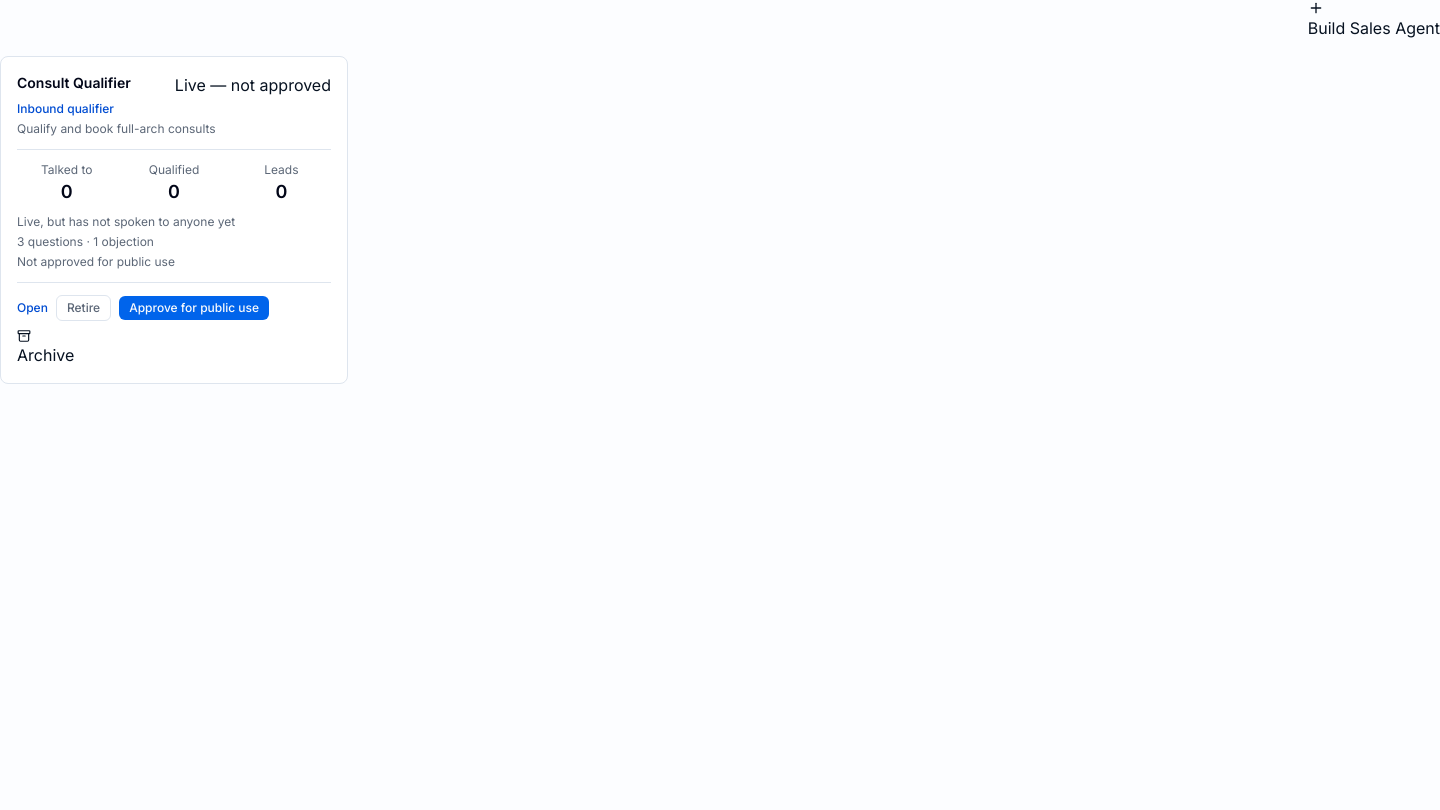
opening an agent › leads with what the agent may never say, above the script
The image size is (1440, 810).
Click the button "Open" at point(32, 308), box [17,300,48,316]
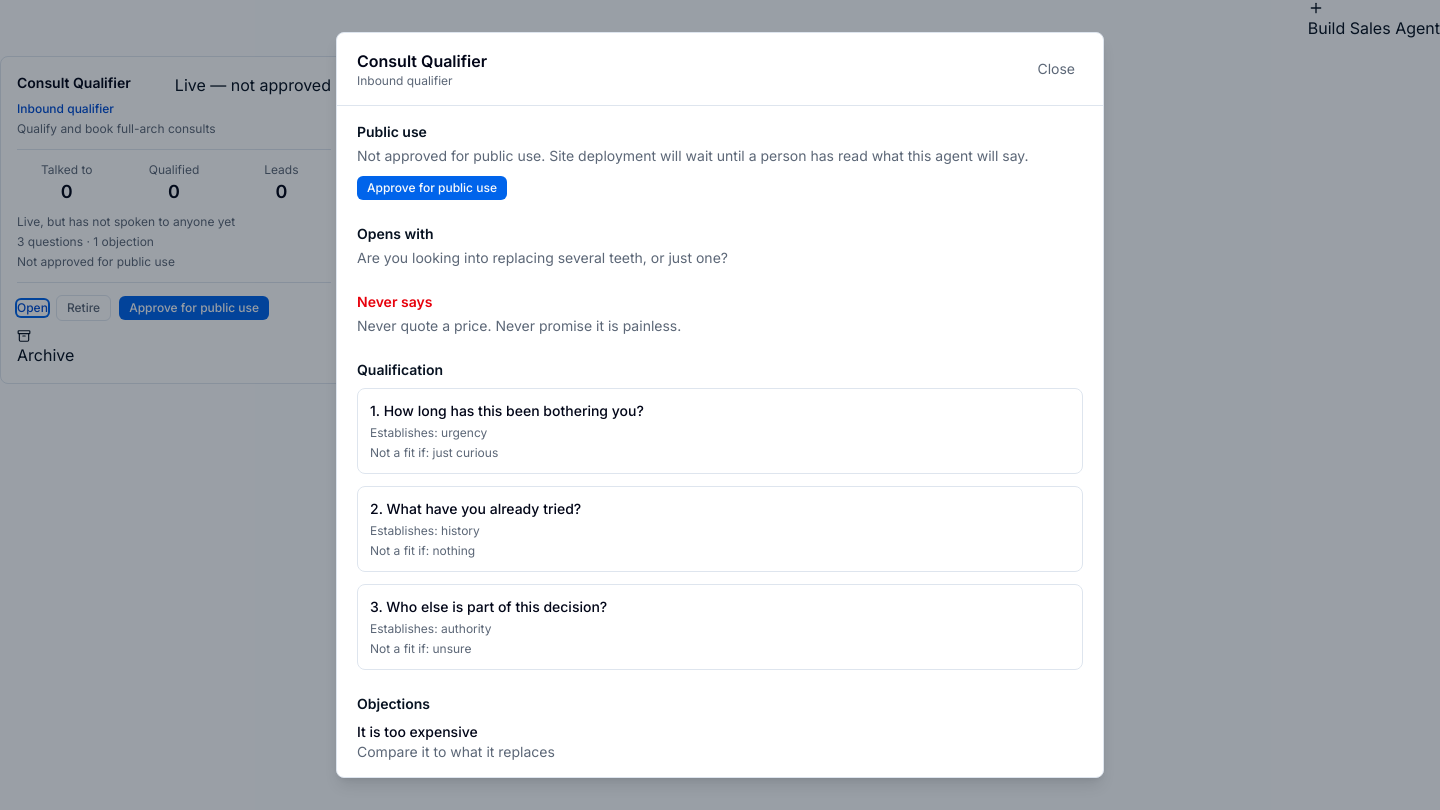
Check: the heading "Never says" is shown, box [357,293,432,310]
Check: the heading "Qualification" is shown, box [357,361,443,378]
